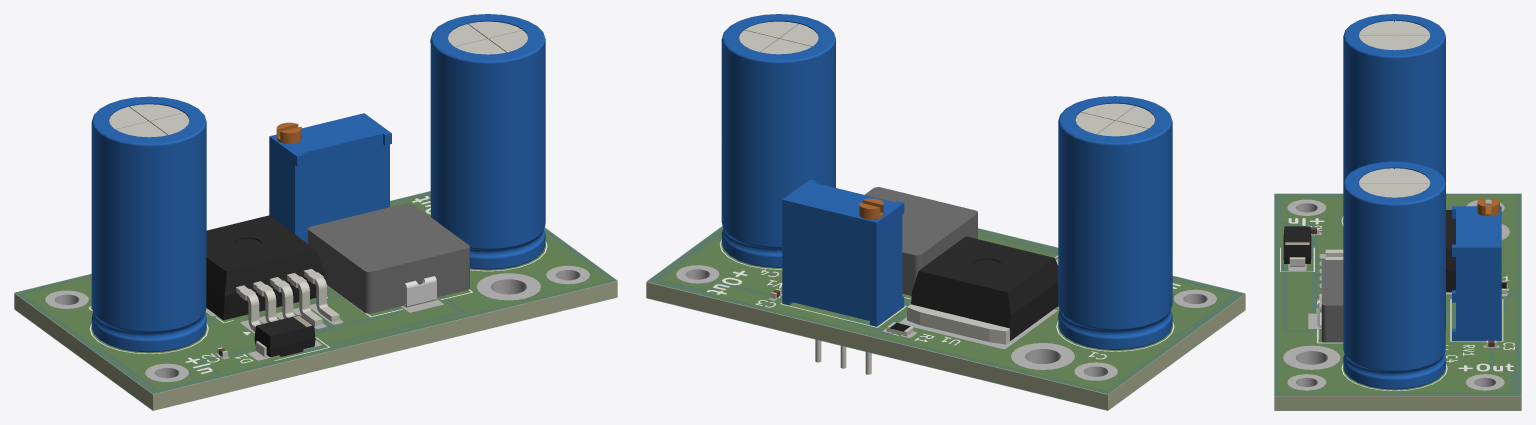
Rendered from LM2596-Buck-Regulator_RevC.glb.
The picture shows the model from 3 angles, left to right: view 1: azimuth 30°, elevation 25°; view 2: azimuth 150°, elevation 25°; view 3: azimuth 270°, elevation 25°; orthographic projection. The views are drawn at different scales.
Parts seen in each view (by area): view 1: =>[0:1:1:14] (×2), =>[0:1:1:28], =>[0:1:1:30], =>[0:1:1:16], =>[0:1:1:3], =>[0:1:1:23], =>[0:1:1:5], =>[0:1:1:24], =>[0:1:1:22], =>[0:1:1:26], =>[0:1:1:29]; view 2: =>[0:1:1:14] (×2), =>[0:1:1:28], =>[0:1:1:3], =>[0:1:1:30], =>[0:1:1:5], =>[0:1:1:23], =>[0:1:1:16], =>[0:1:1:24], =>[0:1:1:26], =>[0:1:1:29]; view 3: =>[0:1:1:14] (×2), =>[0:1:1:28], =>[0:1:1:23], =>[0:1:1:30], =>[0:1:1:3], =>[0:1:1:24], =>[0:1:1:16], =>[0:1:1:26], =>[0:1:1:22], =>[0:1:1:5], =>[0:1:1:29].
Boxes of the visible parts, x1,y1,x2,y2 form: =>[0:1:1:14] (×2): (91,14,545,352); =>[0:1:1:28]: (14,191,617,393); =>[0:1:1:30]: (14,192,617,410); =>[0:1:1:16]: (307,203,469,313); =>[0:1:1:3]: (269,113,391,243); =>[0:1:1:23]: (23,197,608,388); =>[0:1:1:5]: (206,215,339,331); =>[0:1:1:24]: (45,266,589,381); =>[0:1:1:22]: (254,315,315,357); =>[0:1:1:26]: (89,196,547,373); =>[0:1:1:29]: (14,297,617,410); =>[0:1:1:14] (×2): (721,14,1172,349); =>[0:1:1:28]: (647,226,1245,394); =>[0:1:1:3]: (782,179,904,374); =>[0:1:1:30]: (646,227,1245,410); =>[0:1:1:5]: (907,236,1058,344); =>[0:1:1:23]: (661,232,1232,390); =>[0:1:1:16]: (864,187,977,295); =>[0:1:1:24]: (676,259,1216,380); =>[0:1:1:26]: (706,239,1180,359); =>[0:1:1:29]: (647,298,1245,410); =>[0:1:1:14] (×2): (1343,14,1445,389); =>[0:1:1:28]: (1274,193,1521,395); =>[0:1:1:23]: (1280,196,1515,393); =>[0:1:1:30]: (1274,194,1521,410); =>[0:1:1:3]: (1452,197,1501,340); =>[0:1:1:24]: (1283,199,1509,390); =>[0:1:1:16]: (1317,260,1343,342); =>[0:1:1:26]: (1280,216,1514,390); =>[0:1:1:22]: (1283,226,1311,266); =>[0:1:1:5]: (1325,210,1455,292); =>[0:1:1:29]: (1274,410,1521,410).
Bounding box in the file's own units: 0.0466 × 0.026 × 0.0241.
